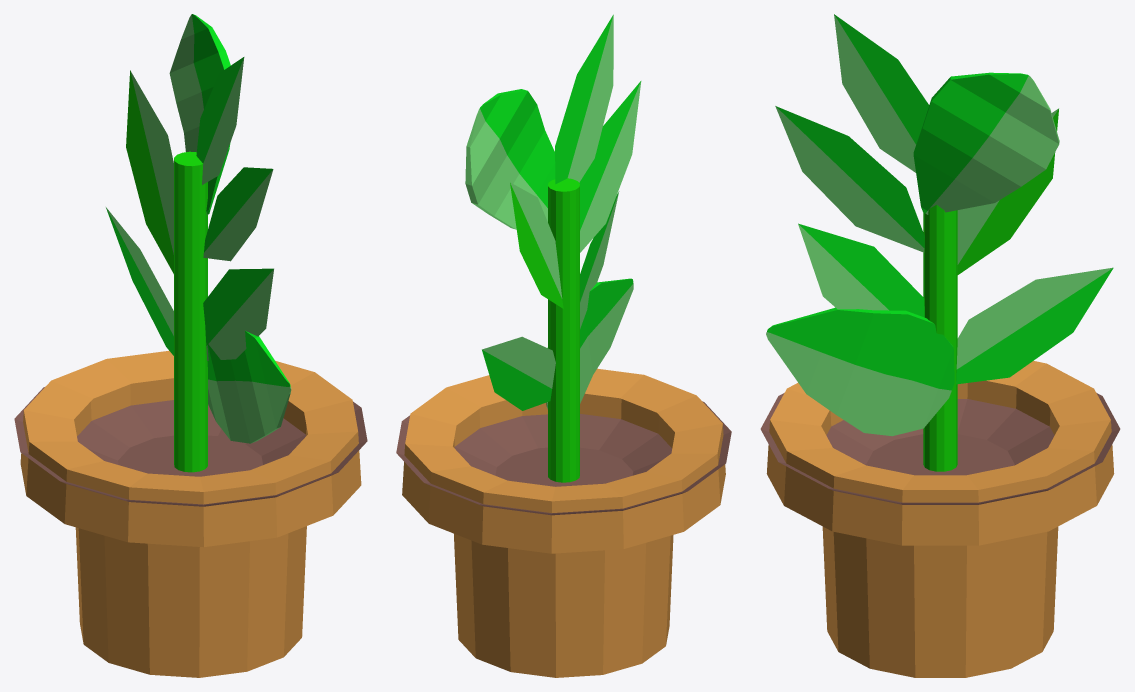
Rendered from plant.glb.
3 views of the same model, side by side, from view 1: azimuth 30°, elevation 25°; view 2: azimuth 150°, elevation 25°; view 3: azimuth 270°, elevation 25° (orthographic). The views are drawn at different scales.
Parts seen in each view (by area): view 1: Cylinder, Cylinder.001, Cylinder.002, Cube, Plane.001, Cube.003, Plane, Plane.004, Plane.003, Plane.002; view 2: Cylinder, Cylinder.001, Cube.003, Cylinder.002, Plane.003, Plane.004, Plane.002, Plane.001, Cube, Plane; view 3: Cylinder, Cube, Cube.003, Cylinder.001, Plane.002, Plane.004, Plane.003, Cylinder.002, Plane, Plane.001.
Part boxes in pixels (x1,y1,x2,y2): Cylinder: (20,350,361,677); Cylinder.001: (14,387,367,506); Cylinder.002: (174,151,207,472); Cube: (207,331,291,443); Plane.001: (126,70,173,273); Cube.003: (169,14,230,214); Plane: (203,268,273,360); Plane.004: (203,167,273,261); Plane.003: (196,57,244,184); Plane.002: (106,207,173,355); Cylinder: (402,368,725,677); Cylinder.001: (396,401,731,515); Cube.003: (465,89,555,229); Cylinder.002: (548,178,579,482); Plane.003: (555,14,613,184); Plane.004: (579,81,641,252); Plane.002: (482,336,555,410); Plane.001: (510,182,563,308); Cube: (546,278,633,409); Plane: (580,191,619,328); Cylinder: (766,361,1114,677); Cube: (766,307,954,436); Cube.003: (913,72,1059,214); Cylinder.001: (760,393,1120,504); Plane.002: (956,267,1113,384); Plane.004: (775,106,924,252); Plane.003: (834,14,929,172); Cylinder.002: (923,205,957,471); Plane: (798,223,924,317); Plane.001: (957,108,1058,274).
Size of the model in its own units: 3.1 by 6.02 by 3.18.
